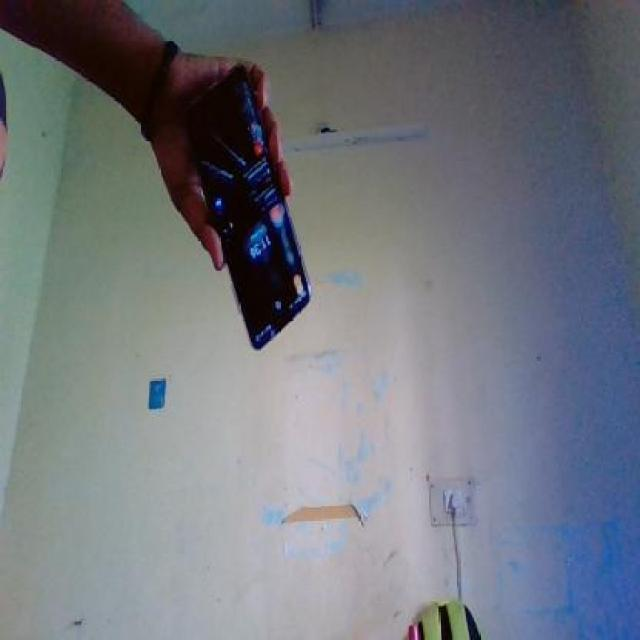Phone: (181, 57, 314, 356)
